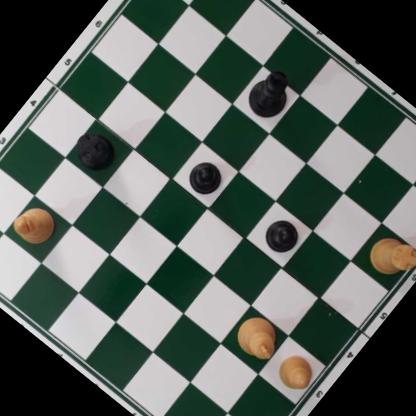black-king: (240, 61, 301, 125)
black-pawn: (258, 210, 307, 259), (181, 152, 229, 200)
black-rook: (67, 122, 123, 177)
white-bishop: (7, 195, 64, 253)
white-king: (228, 309, 287, 366)
white-pawn: (272, 348, 321, 396)
white-rook: (363, 225, 416, 286)
